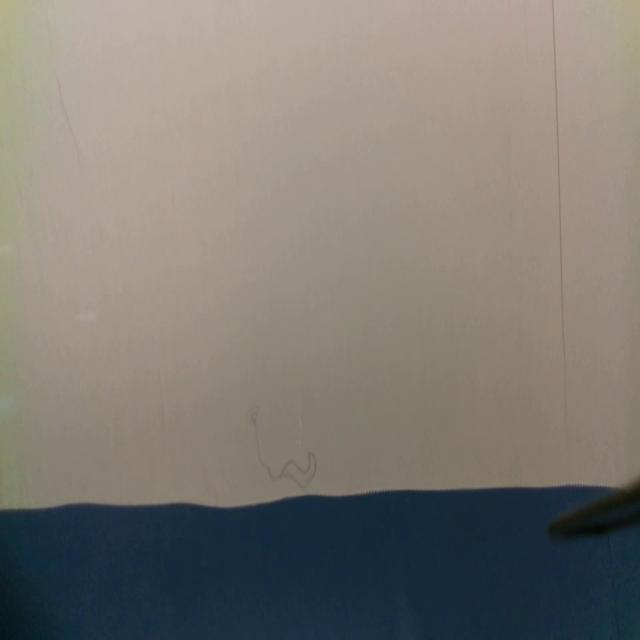crease: (552, 1, 570, 433), (55, 69, 84, 171)
